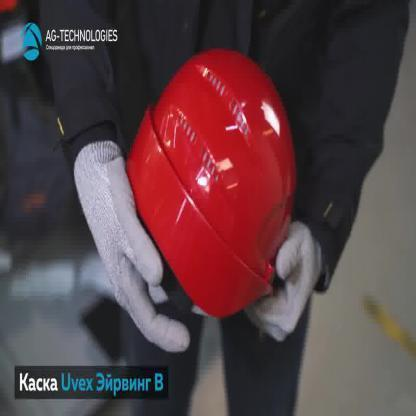gloves: (74, 138, 191, 352), (246, 216, 322, 344)
helmet: (125, 44, 299, 322)
